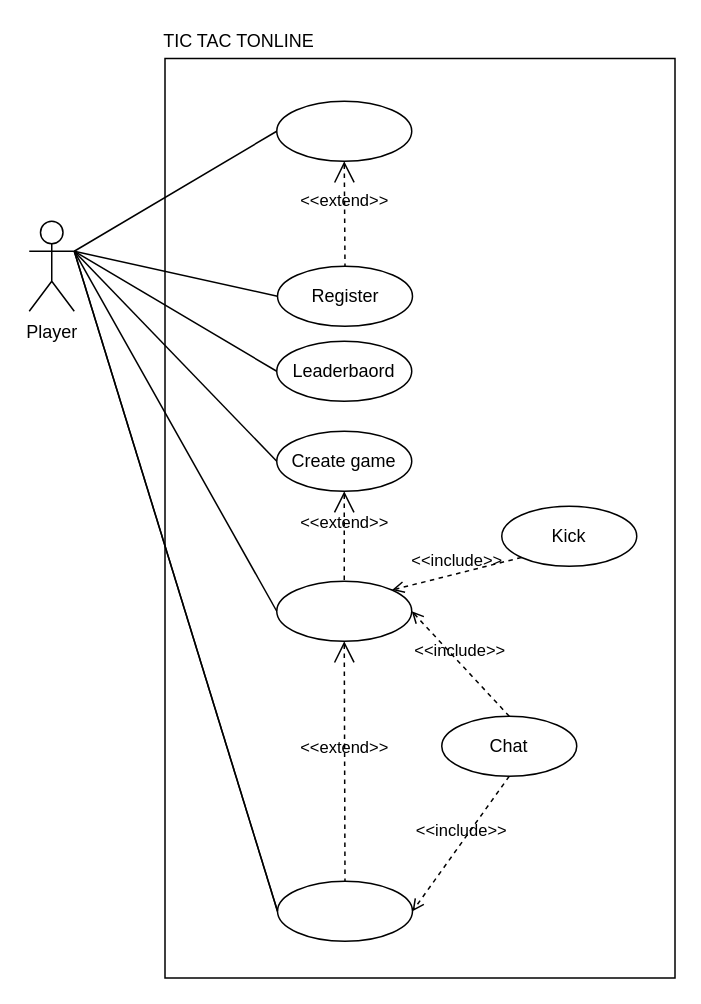
The diagram is 701 pixels wide and 1004 high, and some of its shapes have lost their labels. Each missing label, with the centre of its shape:
Join Lobby: the point at 343,610
Login: the point at 343,130
Play game: the point at 344,910
